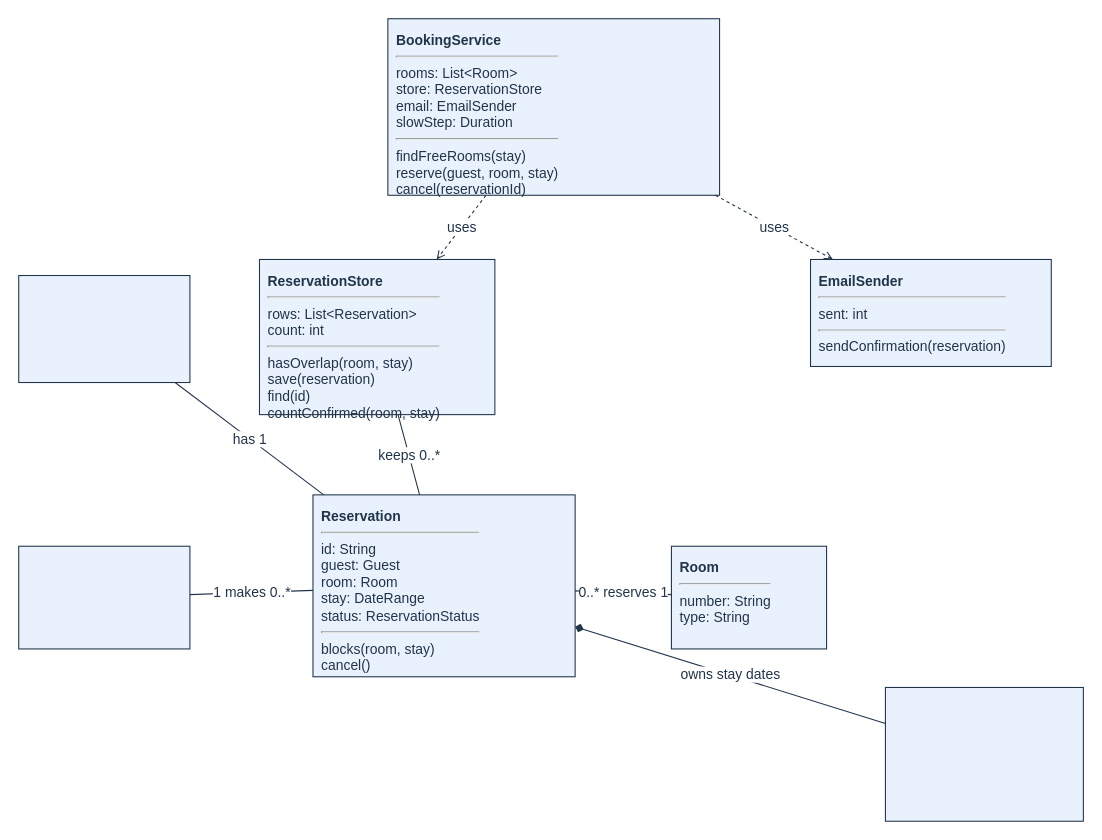
Image size: 1102x840. Some labels were removed from this diagram. Here are the shapes that lost their labels. From the top down, the centre of each, then its label:
At [104,328]: "«enumeration» ReservationStatus confirmed cancelled".
At [104,597]: "Guest name: String email: String".
At [983,753]: "DateRange checkIn: DateTime checkOut: DateTime isValid() overlaps(other)".
